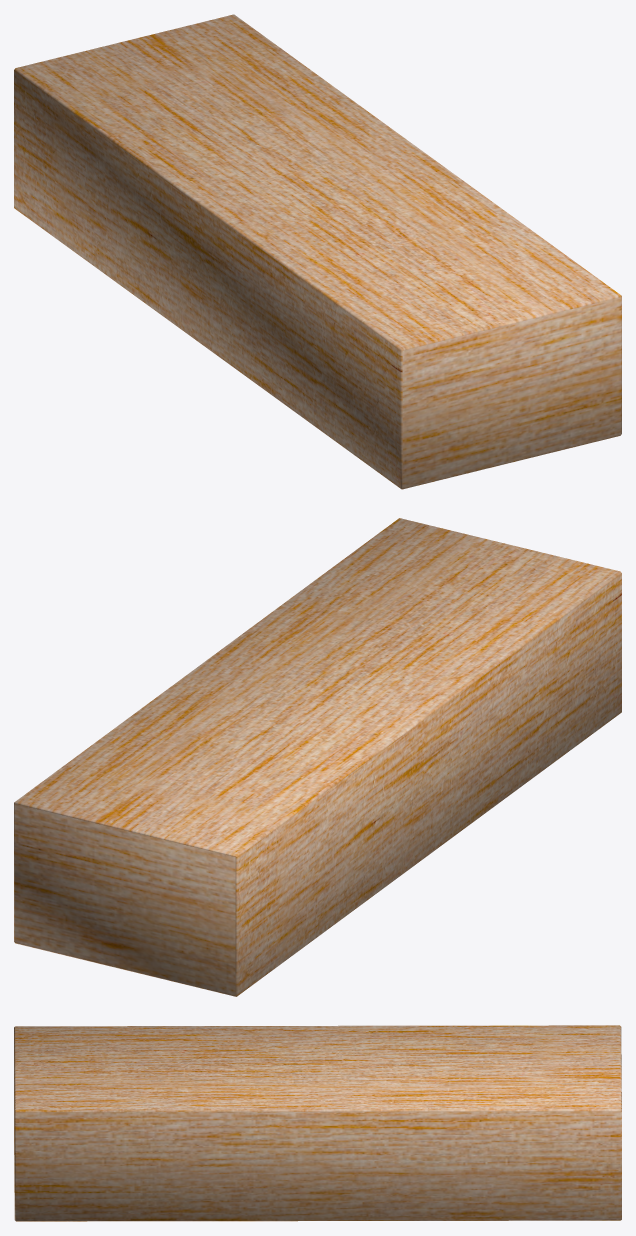
Rendered from Woodblock_reexport.glb.
3 renders of one model, top to bottom at view 1: azimuth 30°, elevation 25°; view 2: azimuth 150°, elevation 25°; view 3: azimuth 270°, elevation 25°, orthographic. The views are drawn at different scales.
Visible parts, largest first — view 1: Cube.035; view 2: Cube.035; view 3: Cube.035.
Boxes of the visible parts, x1,y1,x2,y2 form: Cube.035: [14, 14, 621, 489]; Cube.035: [14, 518, 621, 996]; Cube.035: [14, 1025, 621, 1221].
Bounding box in the file's own units: 2.04 × 1.22 × 6.07.
1 material, 1 textured.
